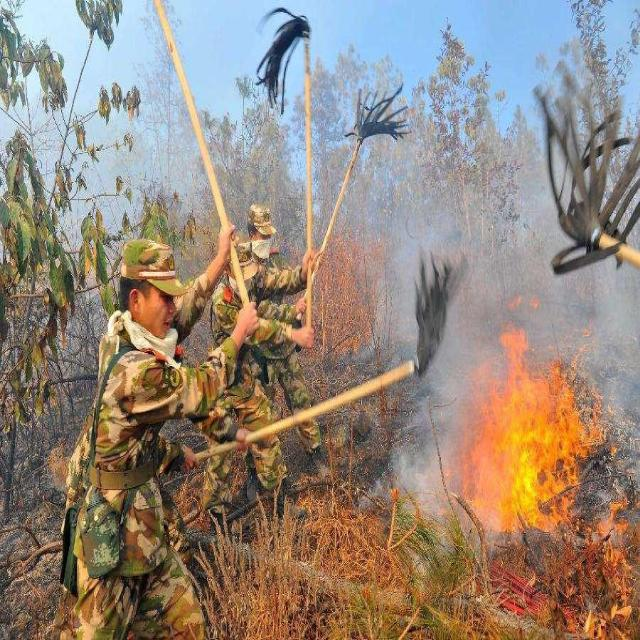fire: (450, 296, 634, 636)
other: (217, 281, 237, 305), (173, 340, 183, 355)
